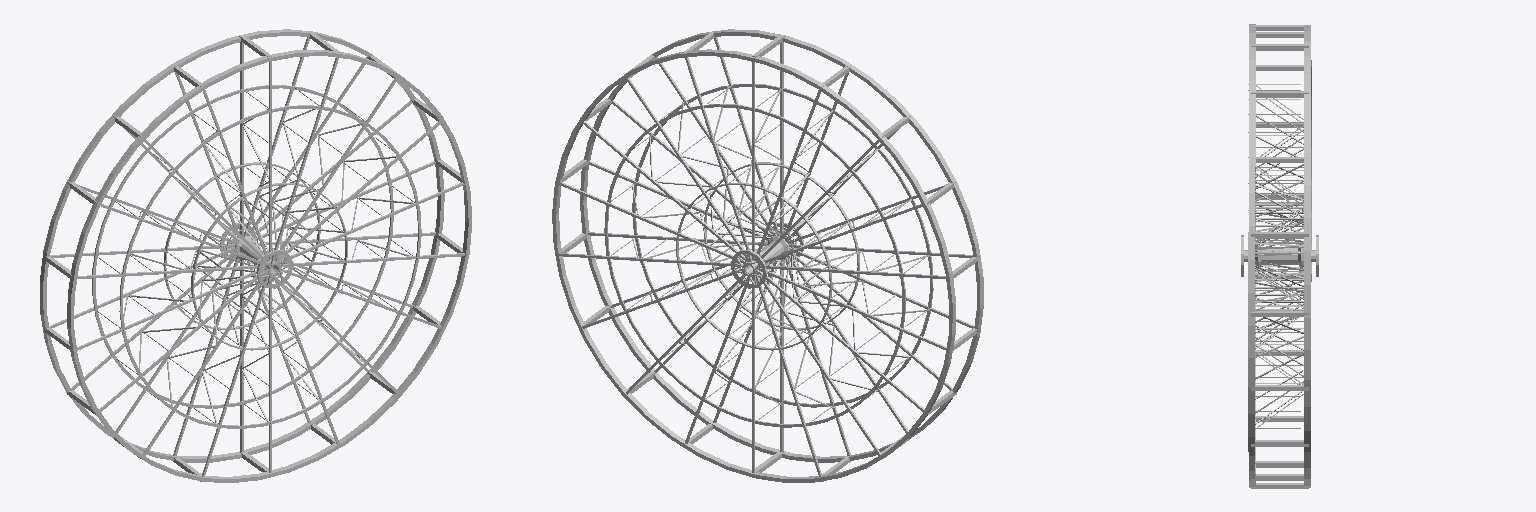
File: rueda mecanismo.obj
3 renders of one model, left to right at view 1: azimuth 30°, elevation 25°; view 2: azimuth 150°, elevation 25°; view 3: azimuth 270°, elevation 25°, orthographic.
Visible parts, largest first — view 1: Sideways_Rungs_uvflatten1_0; view 2: Sideways_Rungs_uvflatten1_0; view 3: Sideways_Rungs_uvflatten1_0.
Boxes of the visible parts, box(x1,y1,x2,y2) form: Sideways_Rungs_uvflatten1_0: box(40, 29, 471, 482); Sideways_Rungs_uvflatten1_0: box(552, 29, 983, 482); Sideways_Rungs_uvflatten1_0: box(1241, 24, 1318, 488).
Size of the model in its own units: 6.72 by 6.73 by 1.12.